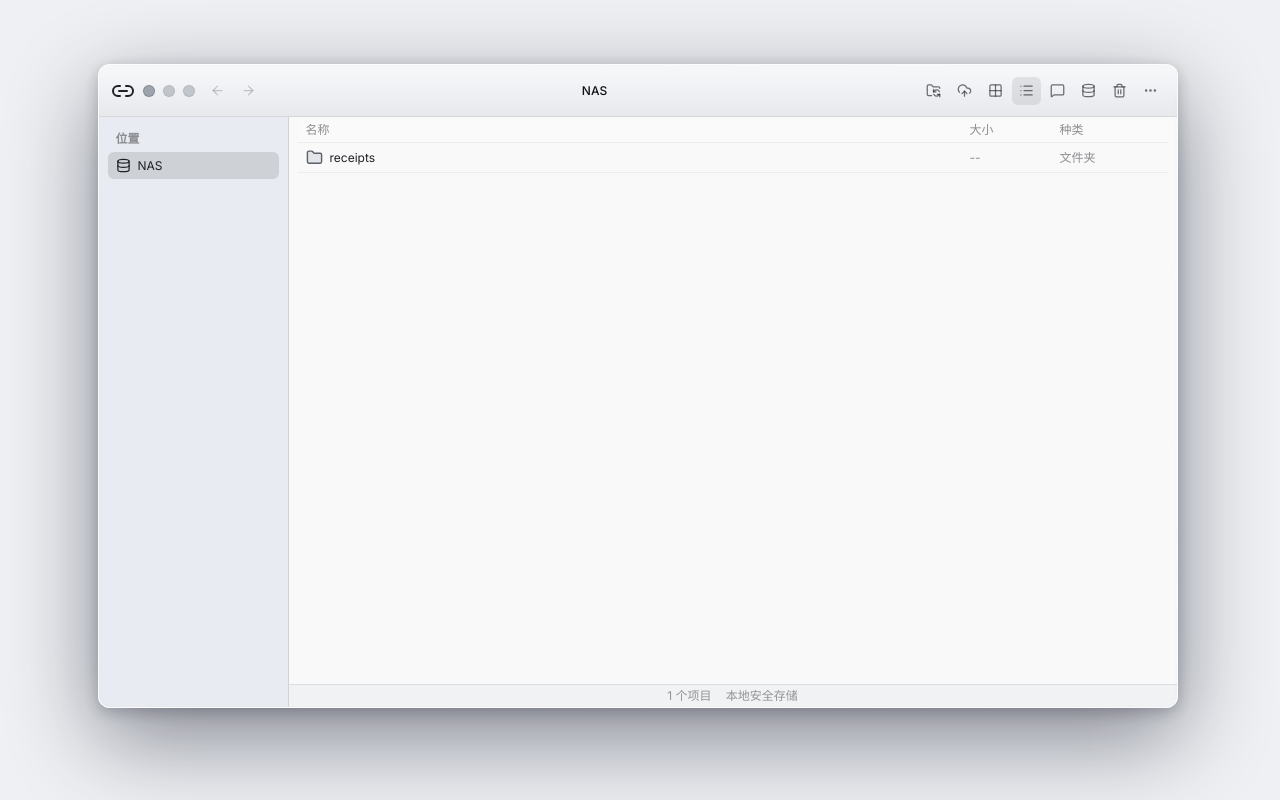
it: FileManager organization entry › previews the selected NAS directory '' through the real panel and typed API
Click the button named "整理此目录" at (933, 90), box [918, 76, 948, 104]
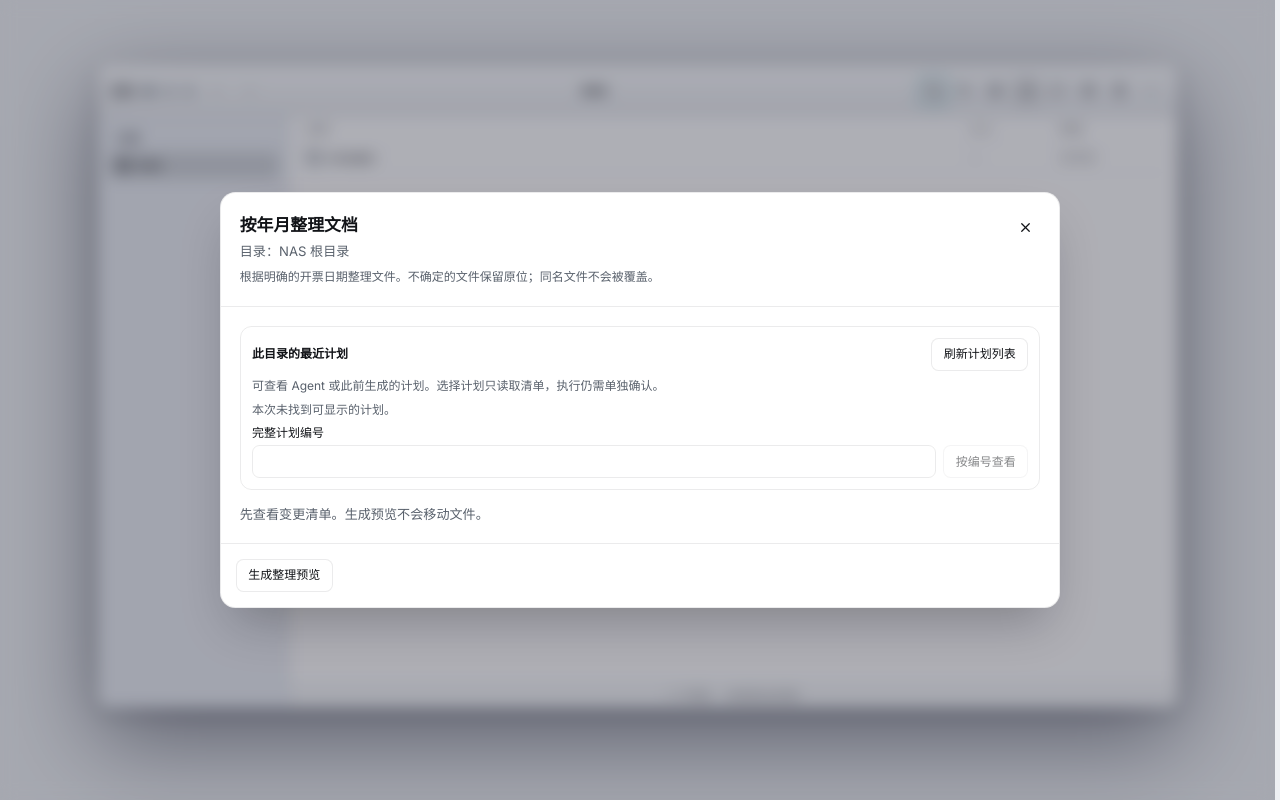
Click the button "生成整理预览" at (284, 575), box [236, 559, 332, 592]
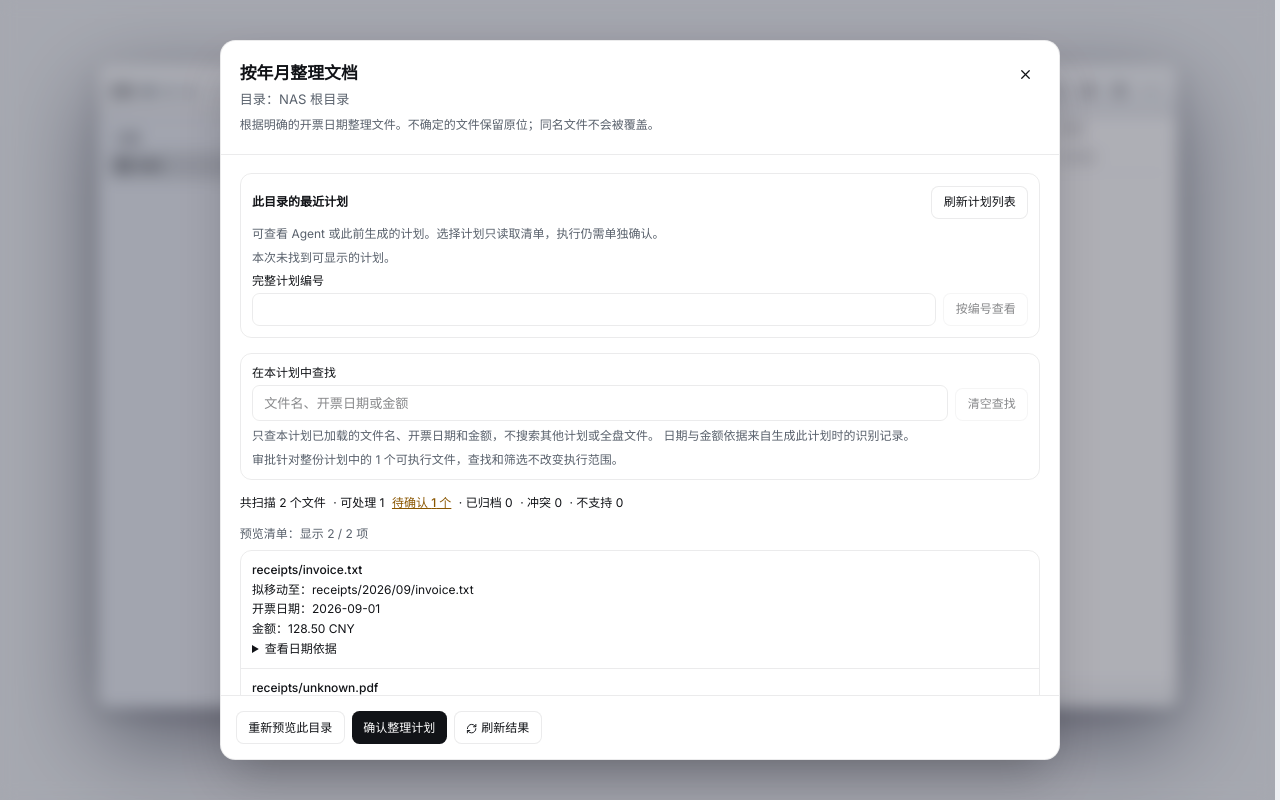
Expected: the text "拟移动至：receipts/2026/09/invoice.txt" is shown, [252, 582, 474, 596]
Click the button named "关闭整理面板" at (1025, 75), box [1010, 60, 1040, 90]
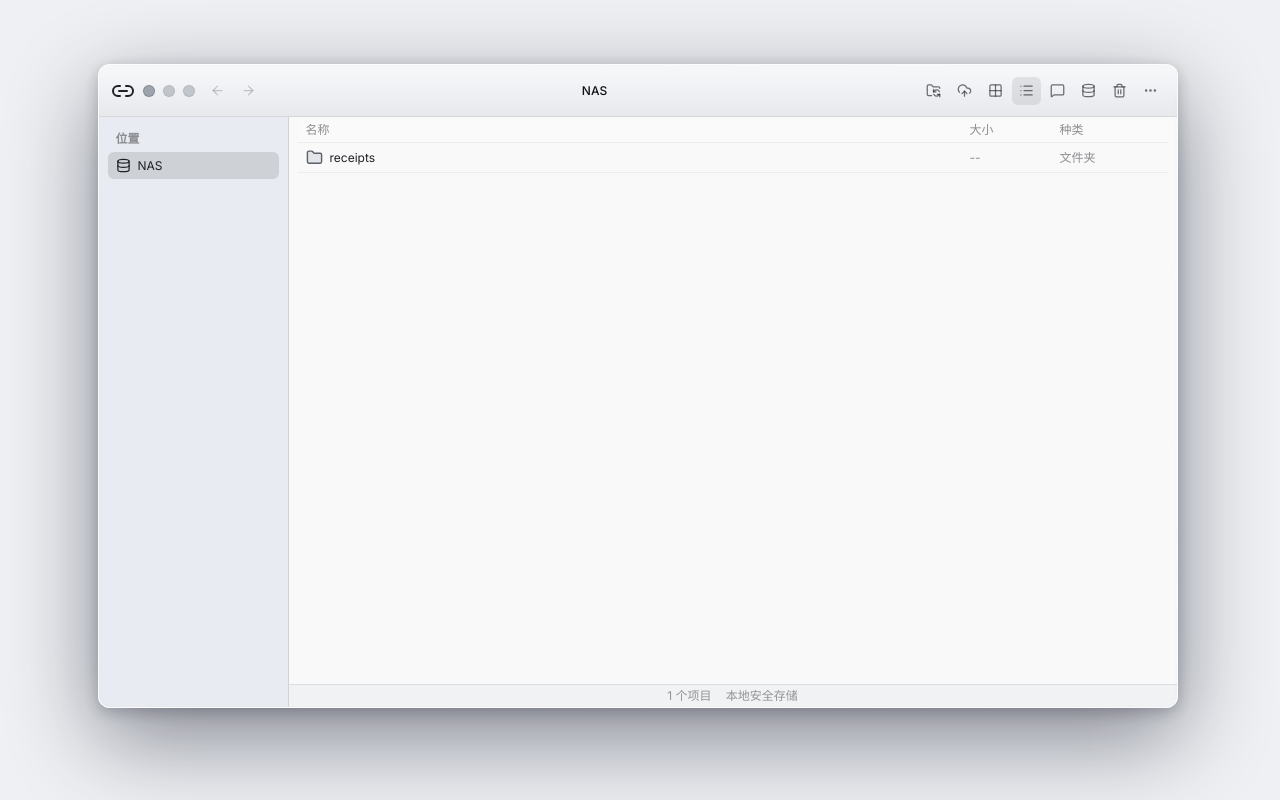
Expected: the heading "按年月整理文档" is gone
